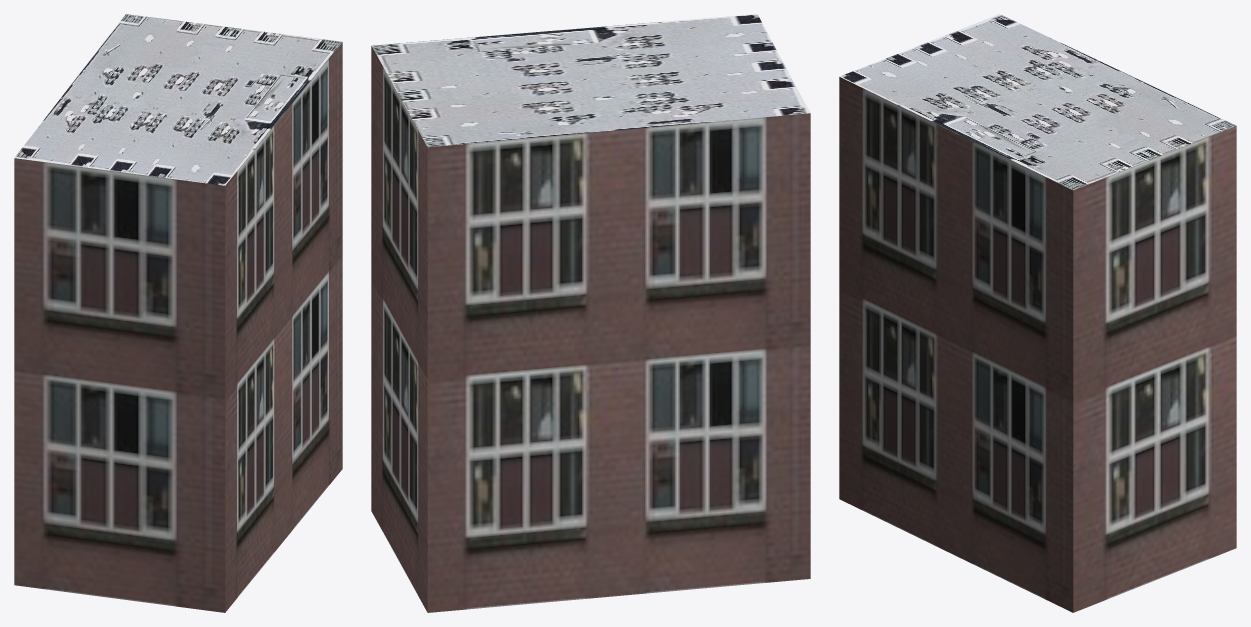
Rendered from ResTex__4154.fbx.
3 renders of one model, left to right at view 1: azimuth 30°, elevation 25°; view 2: azimuth 150°, elevation 25°; view 3: azimuth 270°, elevation 25°, orthographic. The views are drawn at different scales.
Visible parts, largest first — view 1: CityEngineMaterial_12_m, CityEngineMaterial_8_m; view 2: CityEngineMaterial_12_m, CityEngineMaterial_8_m; view 3: CityEngineMaterial_12_m, CityEngineMaterial_8_m.
Part boxes in pixels (<box>): CityEngineMaterial_12_m: <box>14,42,342,612</box>; CityEngineMaterial_8_m: <box>14,14,342,185</box>; CityEngineMaterial_12_m: <box>371,46,810,612</box>; CityEngineMaterial_8_m: <box>372,14,809,147</box>; CityEngineMaterial_12_m: <box>839,77,1236,612</box>; CityEngineMaterial_8_m: <box>839,14,1236,190</box>.
Size of the model in its own units: 5.37 by 6 by 5.12.
2 materials, 2 textured.
